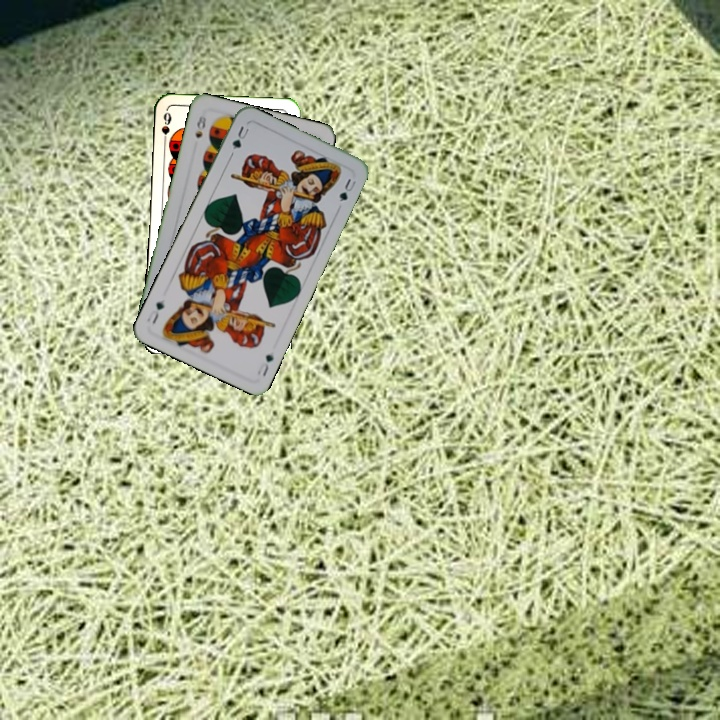GU: (228, 122, 252, 154), (253, 350, 276, 379)
S8: (191, 110, 209, 141)
S9: (157, 108, 174, 149)
